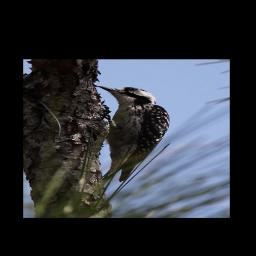Woodpecker: (88, 80, 177, 187)
